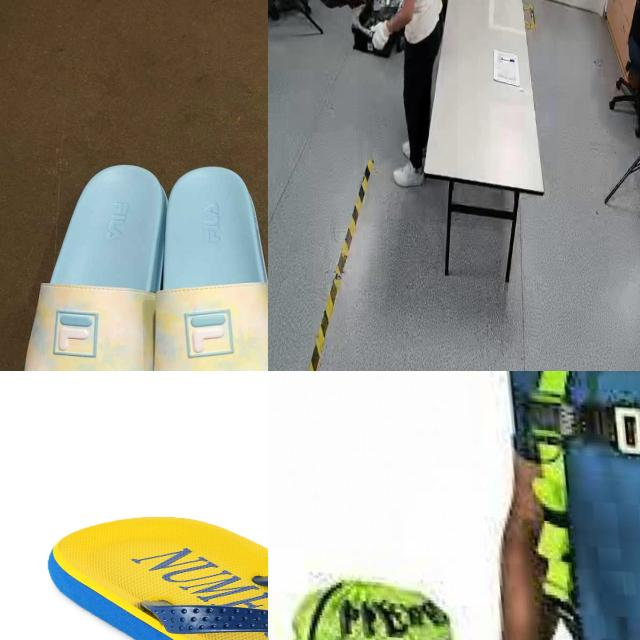Harness: (530, 371, 640, 610)
Sandals: (4, 147, 268, 371), (45, 513, 268, 640)
hand_glove: (369, 13, 393, 55), (380, 0, 403, 6)
person: (358, 0, 458, 223)
shoes: (391, 154, 428, 196)
